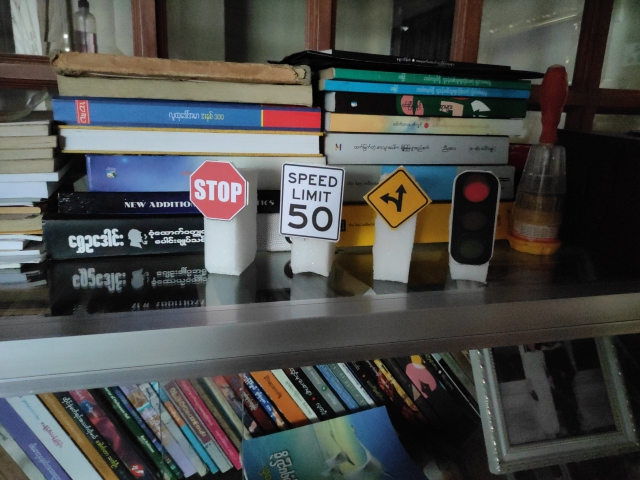Red Traffic Light: (449, 171, 500, 265)
Speed Limit 50: (278, 161, 345, 241)
Stop Sign: (189, 161, 251, 220)
Straight Or Left Sign: (365, 166, 431, 229)
